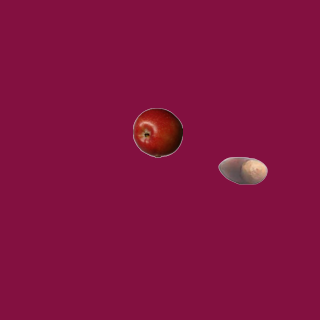Apple Braeburn: (132, 107, 182, 157)
Hazelnut: (217, 145, 267, 195)
